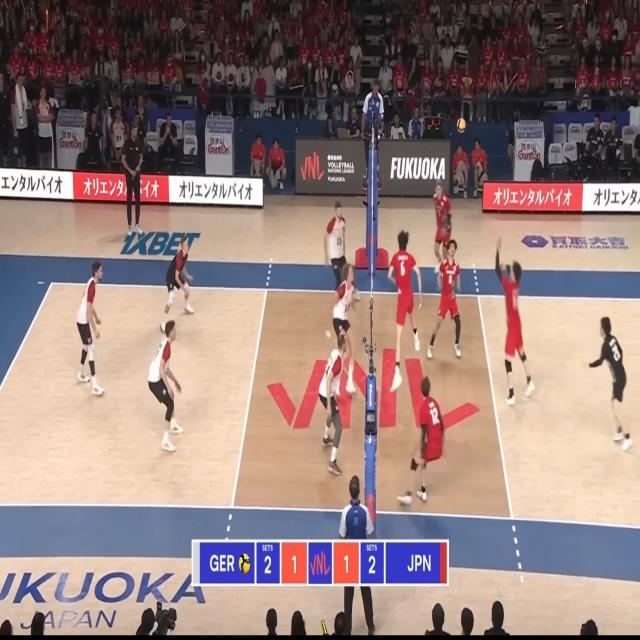ball: (458, 119, 466, 133)
